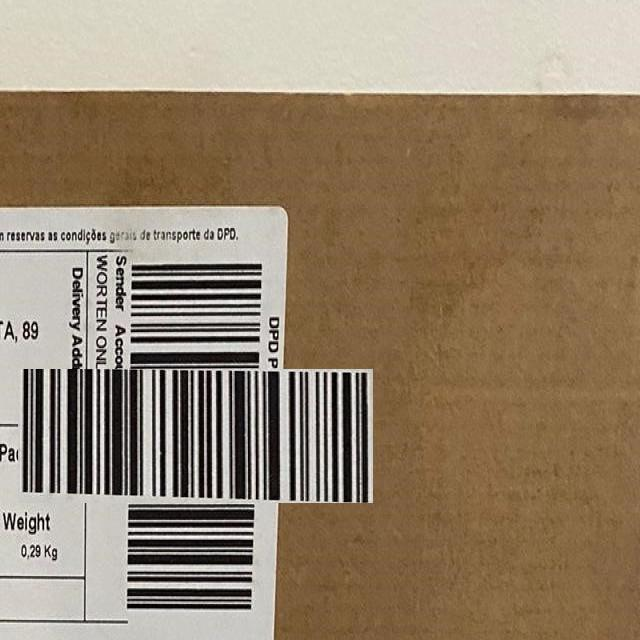Barcode: (72, 314, 318, 558)
